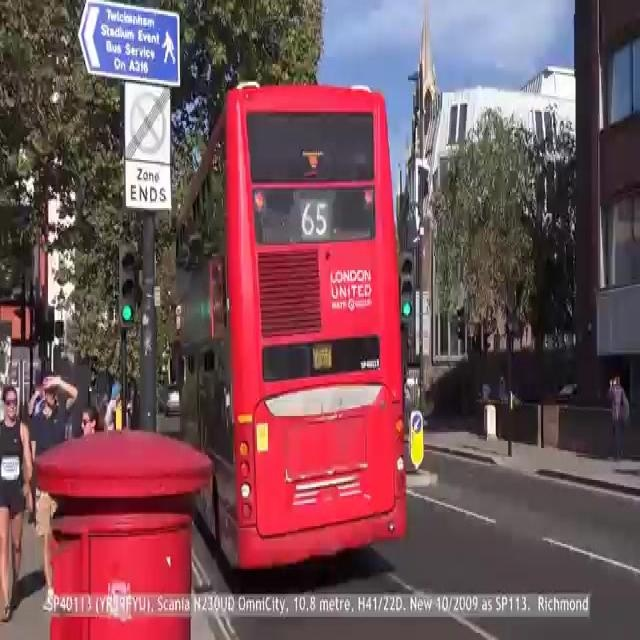Bus: (172, 60, 414, 585)
